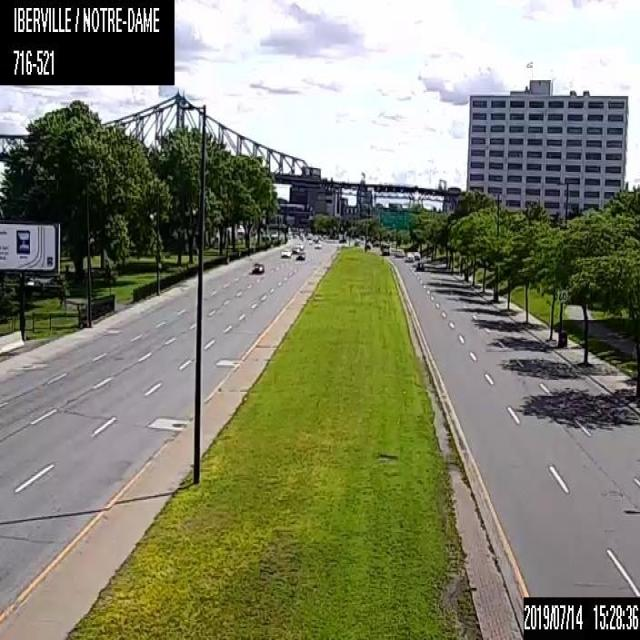vehicle: (251, 260, 263, 274), (380, 241, 389, 255), (280, 247, 292, 257), (414, 260, 424, 270), (295, 250, 304, 260), (404, 251, 413, 261), (395, 247, 403, 256), (297, 241, 304, 249), (413, 250, 420, 258), (291, 245, 299, 252), (314, 242, 321, 248), (354, 237, 359, 245)
